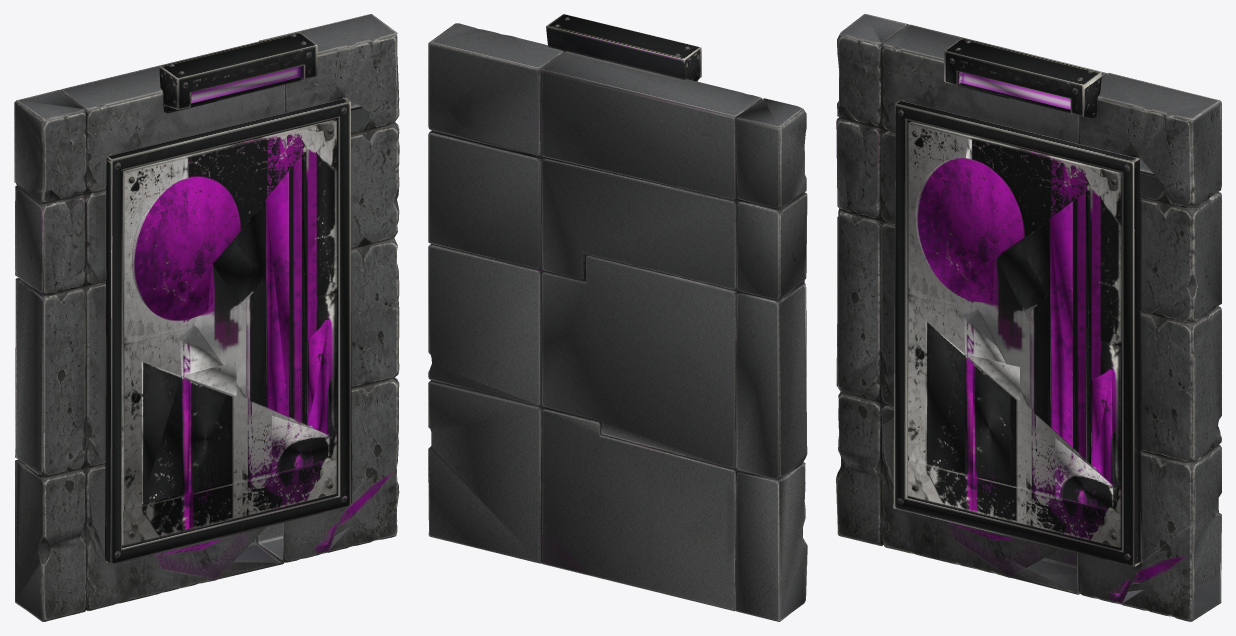
File: poster.glb
3 renders of one model, left to right at view 1: azimuth 30°, elevation 25°; view 2: azimuth 150°, elevation 25°; view 3: azimuth 330°, elevation 25°, orthographic.
Size of the model in its own units: 0.6782 by 0.9521 by 0.1387.
1 material, 1 textured.
